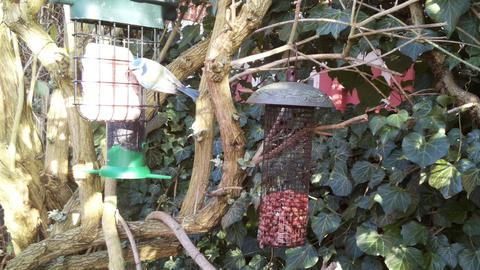blue tit: (127, 57, 201, 100)
